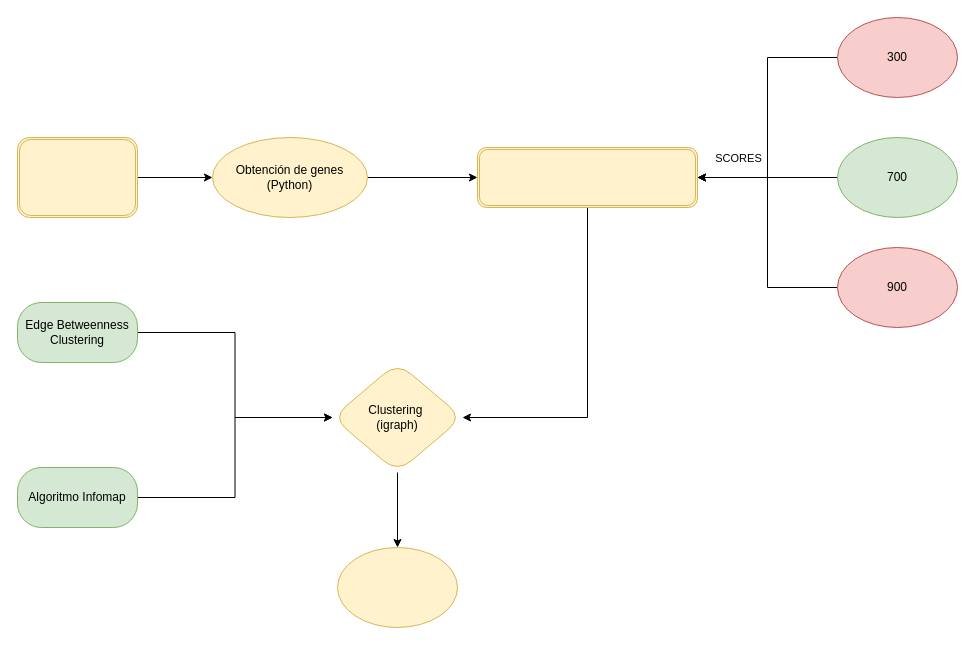
This 975x645 diagram has some shape labels left out. The centre of each missing label's shape, as x and y in pixels:
HP: 0007354 (ELA): the point at 77,177
Red PPI (STRING-db): the point at 587,177
Resultados: the point at 397,587
